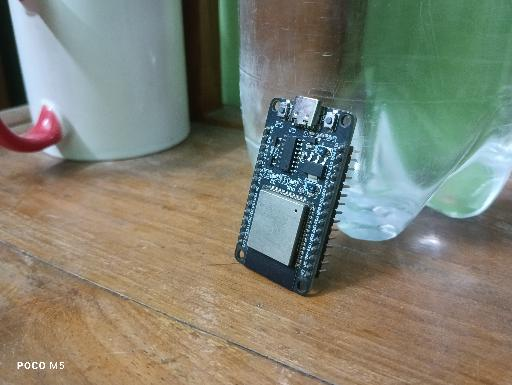Esp32: (233, 95, 358, 297)
